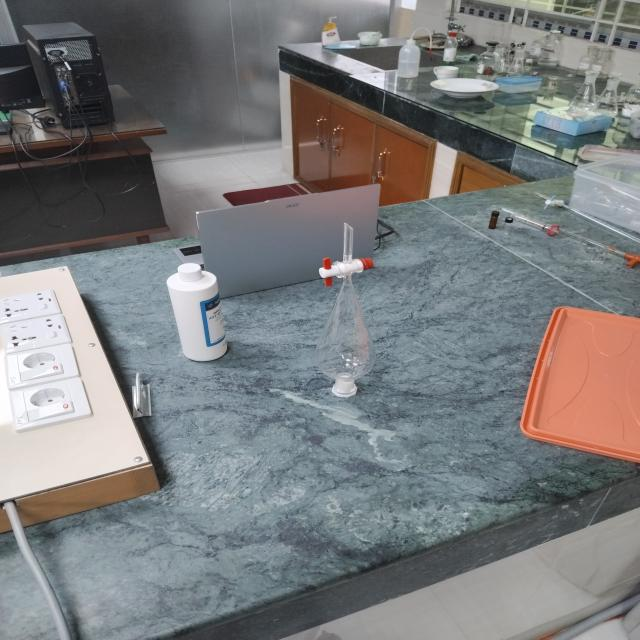Separating_Funnel: (290, 202, 415, 420)
